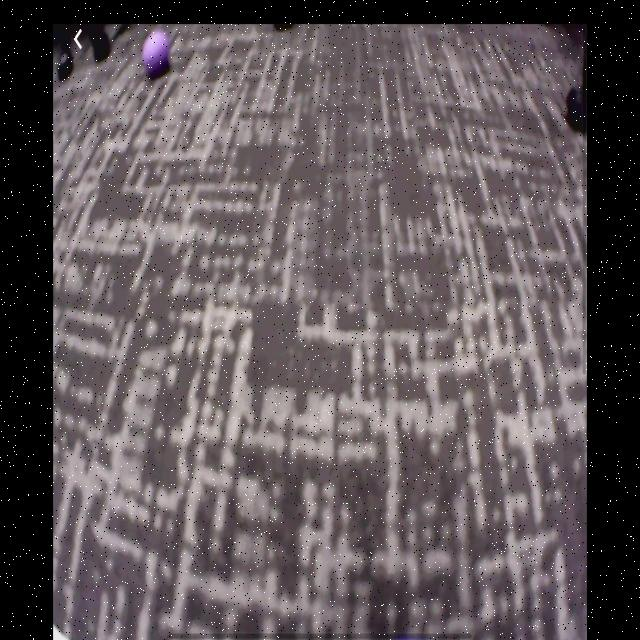ball: (143, 33, 170, 77)
